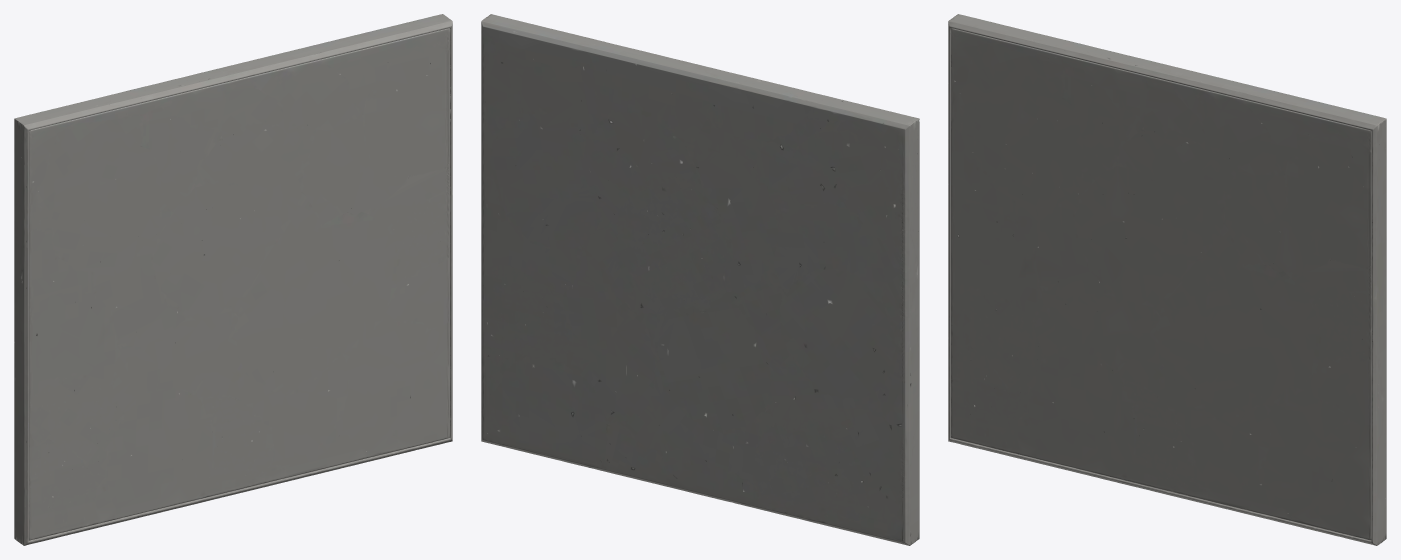
Rendered from model-24-wall-panel.glb.
3 views of the same model, side by side, from view 1: azimuth 30°, elevation 25°; view 2: azimuth 150°, elevation 25°; view 3: azimuth 330°, elevation 25° (orthographic).
Parts seen in each view (by area): view 1: node_0; view 2: node_0; view 3: node_0.
Boxes of the visible parts, x1,y1,x2,y2 form: node_0: (14,14,452,545); node_0: (481,14,919,545); node_0: (948,14,1386,545).
Bounding box in the file's own units: 0.8753 × 0.8208 × 0.0463.
Materials: 1 (1 with a texture image).
